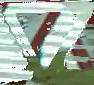Give way: (2, 0, 67, 80)
